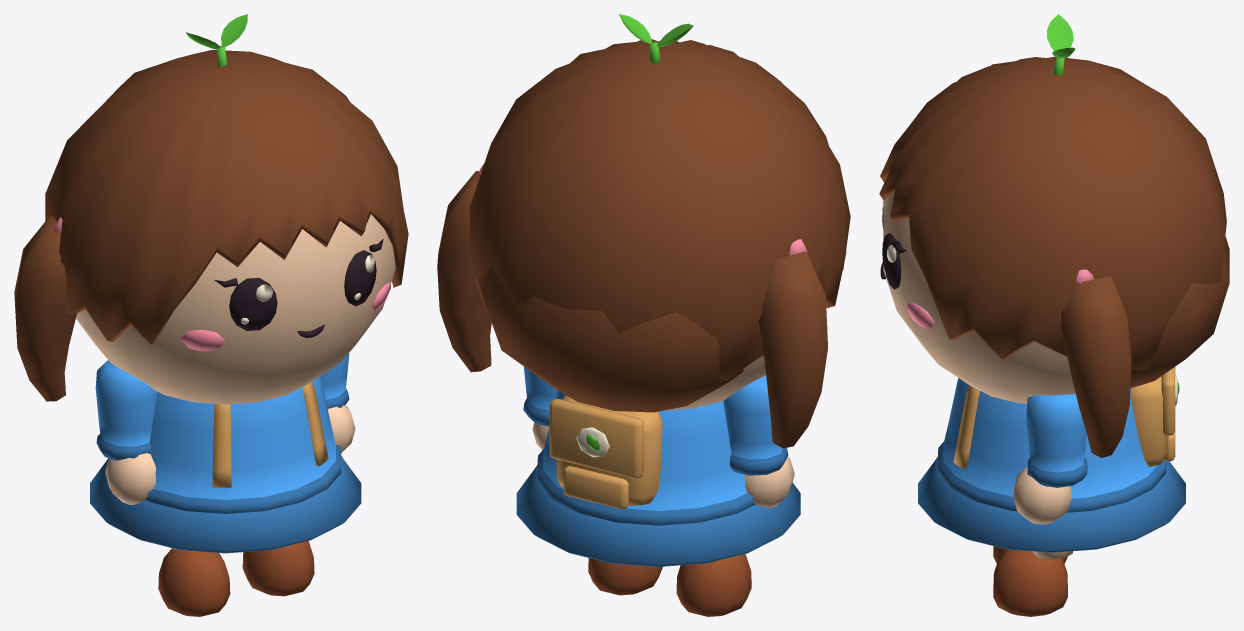
File: hero-girl-tiny.glb
3 renders of one model, left to right at view 1: azimuth 30°, elevation 25°; view 2: azimuth 150°, elevation 25°; view 3: azimuth 270°, elevation 25°, orthographic. The views are drawn at different scales.
Parts seen in each view (by area): view 1: head, body, arm-left, leg-left, leg-right, arm-right, head-leaf; view 2: head, body, arm-left, leg-left, leg-right, arm-right, head-leaf; view 3: head, body, arm-right, leg-right, head-leaf.
Part boxes in pixels (x1=…): head: x1=14, y1=50, x2=408, y2=404; body: x1=90, y1=376, x2=361, y2=553; arm-left: x1=95, y1=360, x2=157, y2=504; leg-left: x1=158, y1=547, x2=230, y2=616; leg-right: x1=242, y1=541, x2=314, y2=596; arm-right: x1=320, y1=353, x2=355, y2=452; head-leaf: x1=186, y1=14, x2=247, y2=66; head: x1=437, y1=39, x2=850, y2=448; body: x1=516, y1=390, x2=800, y2=566; arm-left: x1=723, y1=375, x2=794, y2=508; leg-left: x1=676, y1=554, x2=751, y2=616; leg-right: x1=588, y1=558, x2=662, y2=595; arm-right: x1=523, y1=366, x2=556, y2=449; head-leaf: x1=619, y1=14, x2=693, y2=63; head: x1=879, y1=56, x2=1229, y2=457; body: x1=918, y1=367, x2=1185, y2=552; arm-right: x1=1013, y1=394, x2=1087, y2=524; leg-right: x1=993, y1=549, x2=1072, y2=616; head-leaf: x1=1047, y1=14, x2=1075, y2=75.
Bounding box in the file's own units: 1.59 × 2.3 × 1.31.
